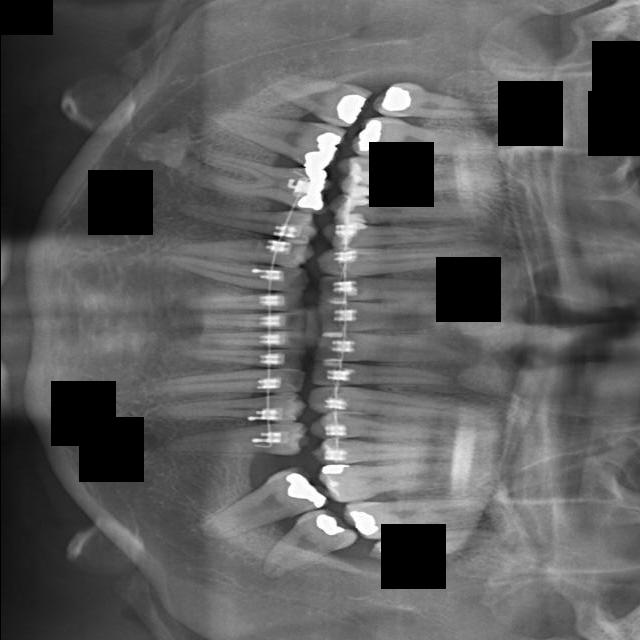3M ESPE Implant: (375, 82, 513, 127)
AGS Medikal Implant: (323, 365, 456, 386)
AMerOss Implant: (307, 387, 464, 417)
Amalgam filling: (311, 415, 442, 442)
Anthogyr Implant: (312, 436, 452, 465)
Bicon Implant: (316, 459, 445, 501)
BioHorizons Implant: (345, 499, 465, 539)
BioLife Implant: (370, 529, 479, 573)
Biomet 3i Implant: (251, 500, 357, 577)
Blue Sky Bio Implant: (202, 469, 316, 554)
Caries: (353, 118, 483, 157)
Composite filling: (170, 421, 299, 454)
Cowellmedi Implant: (147, 398, 300, 422)
Crown: (138, 368, 291, 399)
DENTSPLY Implant: (170, 343, 286, 372)
Dentatus Implant: (189, 332, 283, 347)
Dentis Implant: (197, 306, 295, 332)
Dentium Implant: (180, 291, 286, 310)
Euroteknika Implant: (166, 256, 300, 295)
Filling: (180, 228, 311, 268)
Frontier Implant: (204, 189, 316, 245)
Hiossen Implant: (345, 159, 487, 202)
Implant: (242, 128, 243, 128)
Implant Direct: (250, 185, 251, 185)
Keystone Dental Implant: (262, 68, 367, 127)
MIS Implant: (337, 190, 489, 227)
Mandible: (331, 226, 474, 246)
Maxilla: (328, 244, 494, 276)
Megagen Implant: (325, 279, 458, 300)
Neodent Implant: (316, 300, 440, 334)
Neoss Implant: (330, 333, 442, 360)
